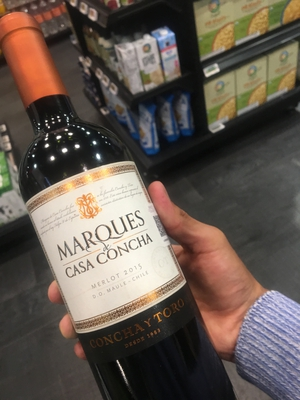marques de casa concha merlot: (12, 41, 210, 400)
